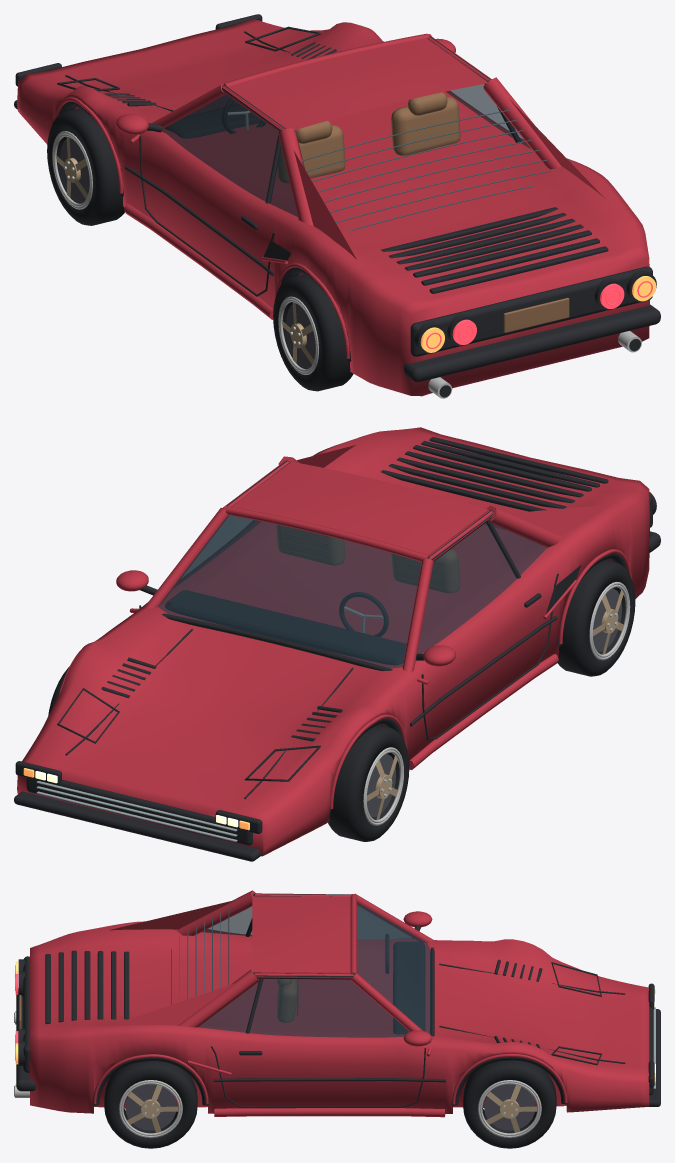
Rendered from marlin-turbo.glb.
3 views of the same model, one above another, from view 1: azimuth 30°, elevation 25°; view 2: azimuth 150°, elevation 25°; view 3: azimuth 270°, elevation 25° (orthographic). The views are drawn at different scales.
Parts seen in each view (by area): view 1: marlin_body_surface, marlin_wheel_LR_surface, marlin_wheel_LF_surface; view 2: marlin_body_surface, marlin_wheel_LF_surface, marlin_wheel_LR_surface; view 3: marlin_body_surface, marlin_wheel_RF_surface, marlin_wheel_RR_surface.
Boxes of the visible parts, x1,y1,x2,y2 form: marlin_body_surface: (14, 14, 660, 398); marlin_wheel_LR_surface: (273, 274, 353, 391); marlin_wheel_LF_surface: (47, 108, 124, 225); marlin_body_surface: (14, 427, 660, 861); marlin_wheel_LF_surface: (328, 725, 409, 841); marlin_wheel_LR_surface: (557, 560, 635, 676); marlin_body_surface: (14, 890, 660, 1117); marlin_wheel_RF_surface: (463, 1060, 556, 1148); marlin_wheel_RR_surface: (104, 1061, 197, 1148).
Bounding box in the file's own units: 2.18 × 1.26 × 4.6.
